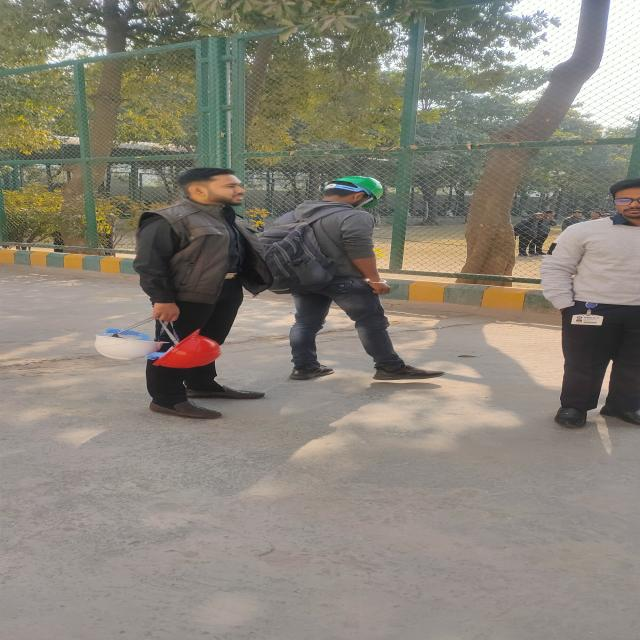no jacket: (261, 176, 447, 380)
unsafe: (134, 165, 263, 418), (549, 166, 640, 427)
